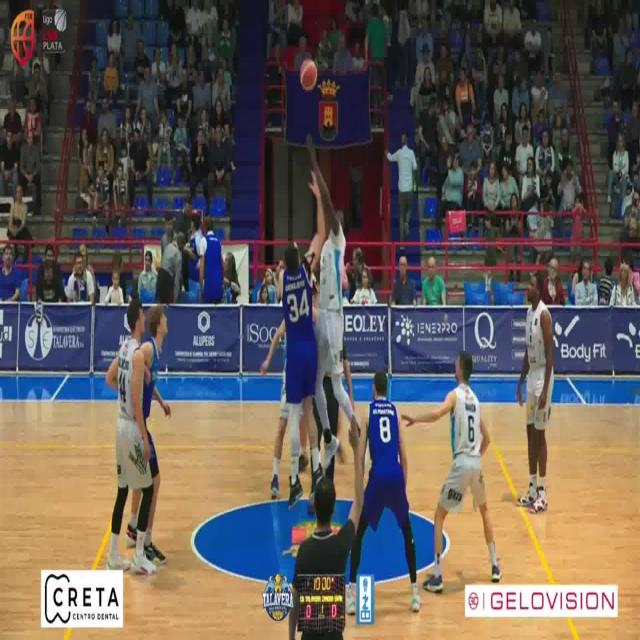ball: (300, 58, 317, 89)
player: (404, 351, 502, 593), (346, 371, 421, 615), (308, 139, 358, 478), (280, 171, 326, 506), (105, 299, 155, 575), (518, 271, 555, 513), (141, 303, 170, 429), (271, 367, 289, 499), (261, 319, 286, 374)
referee: (289, 414, 364, 640)
